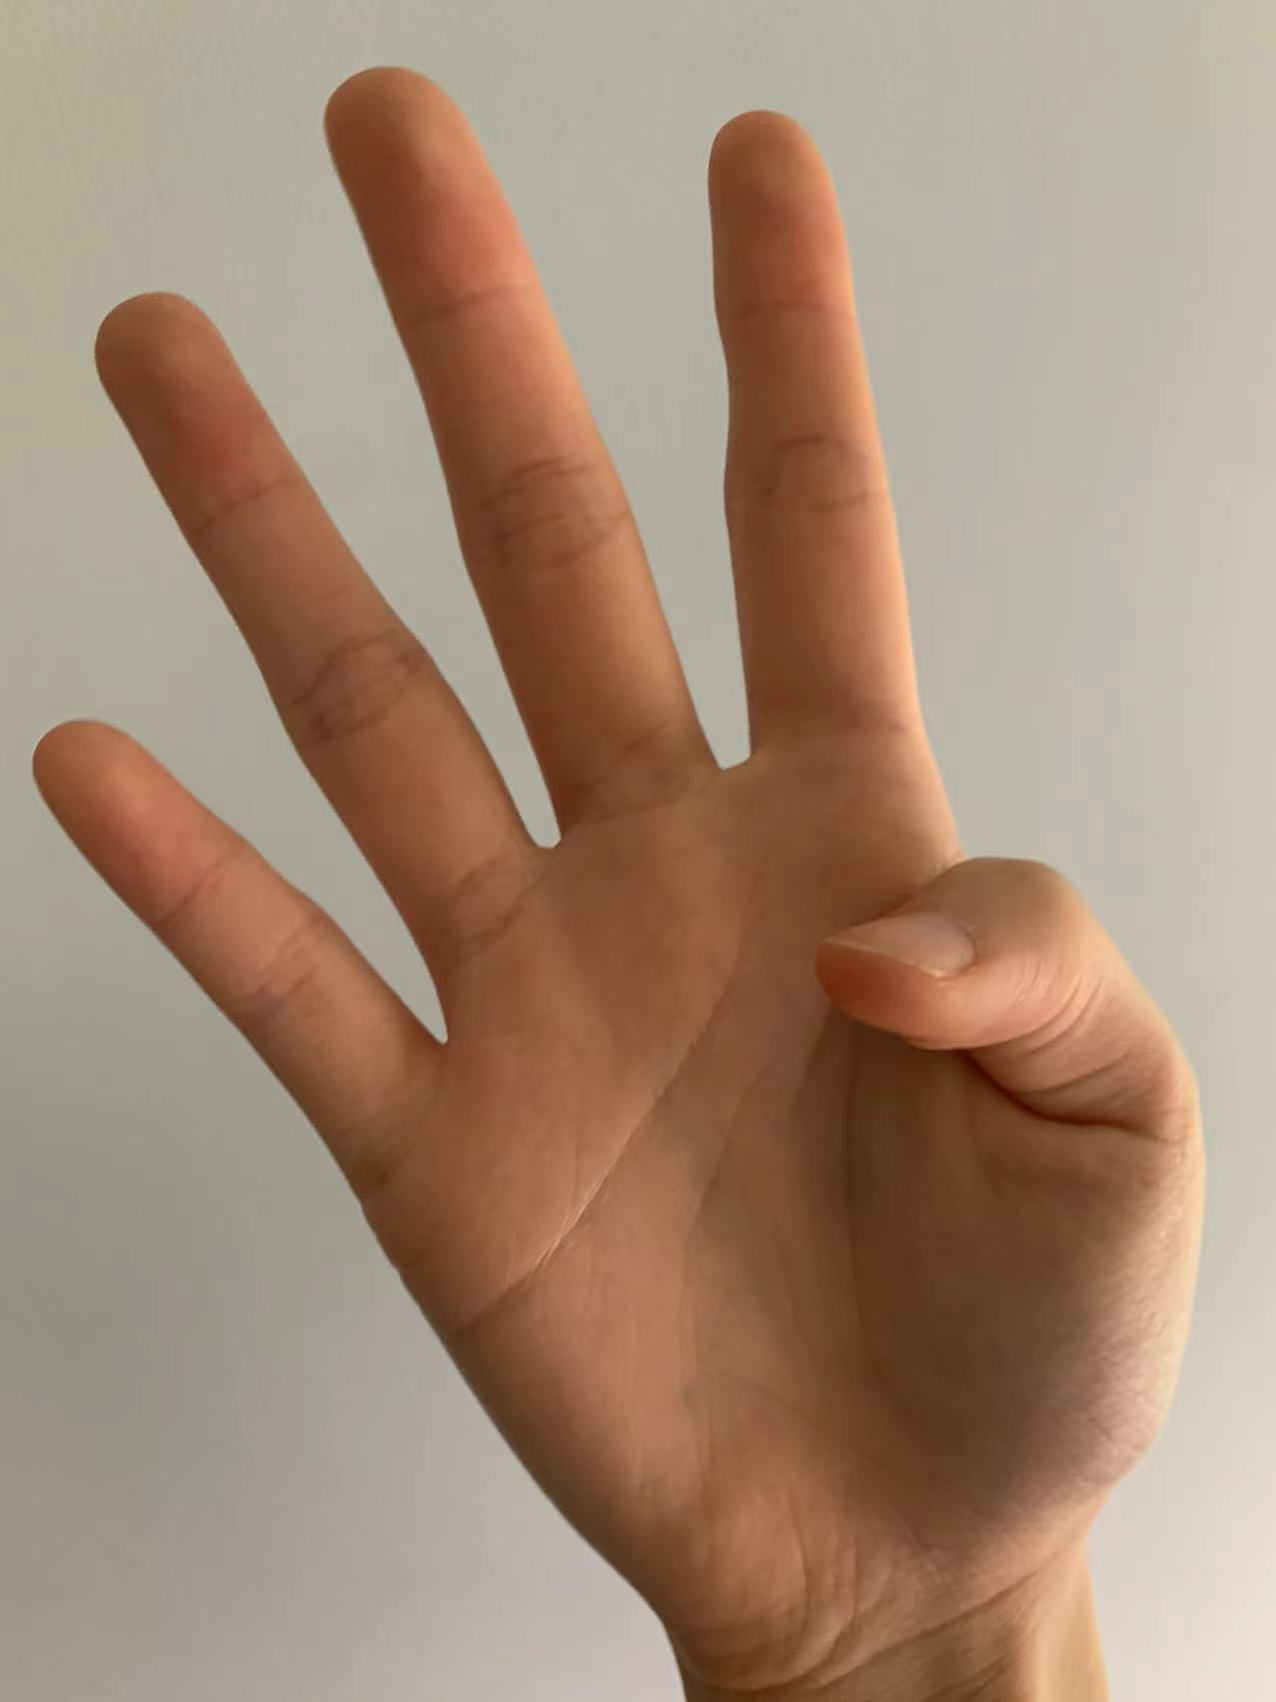right: (13, 62, 1238, 1647)
